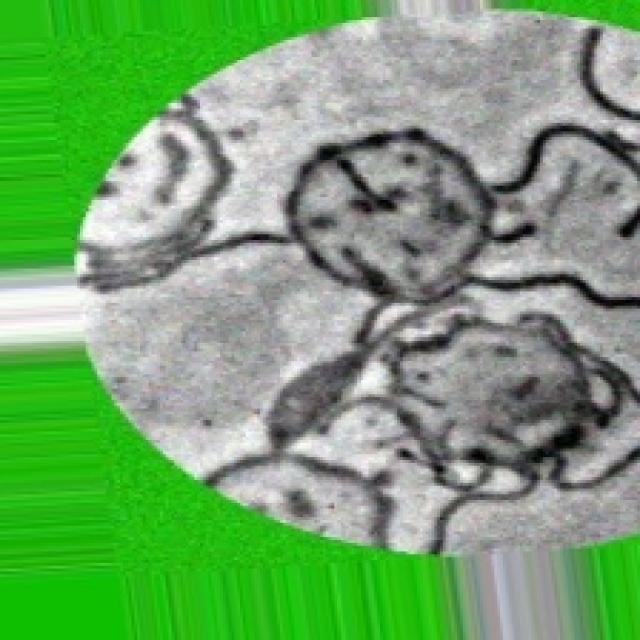Spiral_bacteria: (72, 12, 637, 554)
